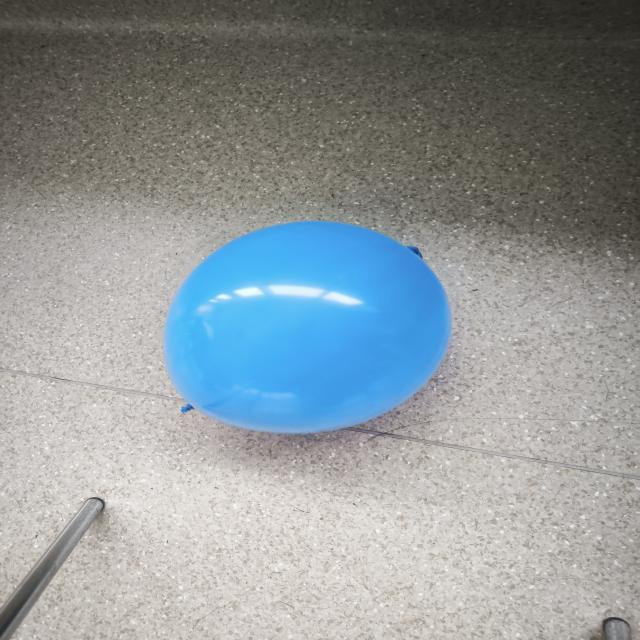balloon: (164, 221, 451, 433)
